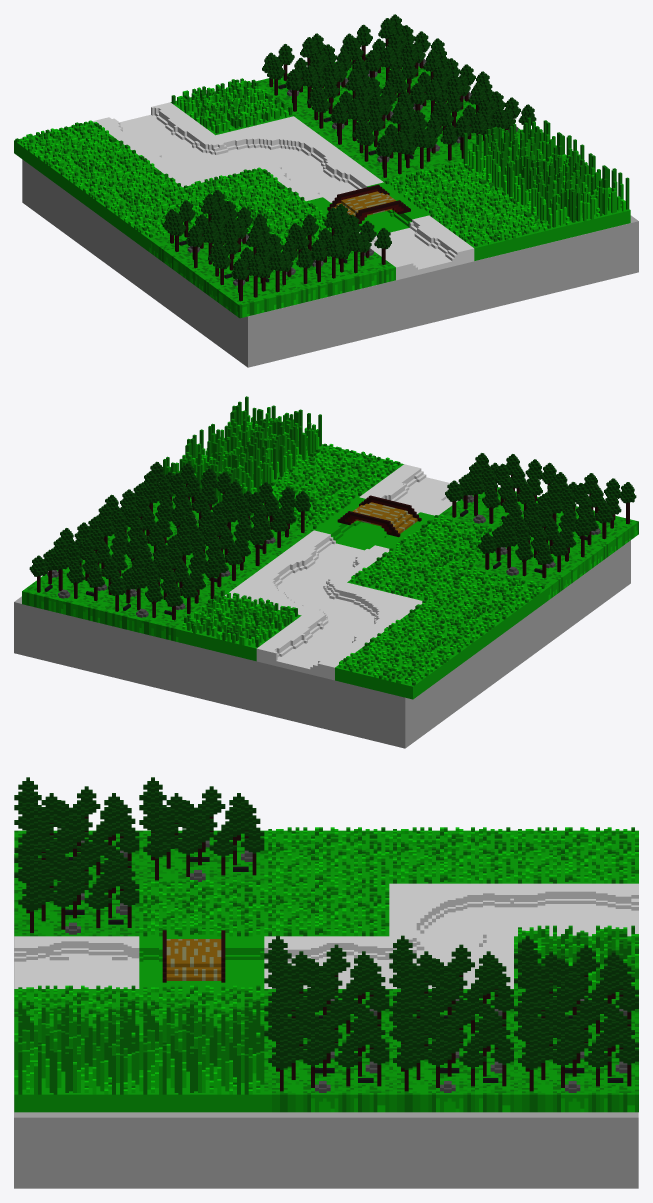
Rendered from Final Grass Map.fbx.
The picture shows the model from 3 angles, top to bottom: view 1: azimuth 30°, elevation 25°; view 2: azimuth 150°, elevation 25°; view 3: azimuth 270°, elevation 25°; orthographic projection. The views are drawn at different scales.
Visible parts, largest first — view 1: Cube, Plaines Map-48, Plaines Map-3, Plaines Map-46, Plaines Map-20, Plaines Map-47, Plaines Map-2, Plaines Map-36, Plaines Map-21, Plaines Map-18, Plaines Map-22, Plaines Map-41 (+14 smaller); view 2: Cube, Plaines Map-18, Plaines Map-47, Plaines Map-16.001, Plaines Map-48, Plaines Map-40, Plaines Map-46, Plaines Map-22, Plaines Map-20, Plaines Map-21, Plaines Map-3, Plaines Map-35 (+14 smaller); view 3: Cube, Plaines Map-19, Plaines Map-16, Plaines Map-16.001, Plaines Map-2, Plaines Map-3, Plaines Map-46, Plaines Map-47, Plaines Map-34, Plaines Map-20, Plaines Map-48, Plaines Map-39 (+14 smaller).
Boxes of the visible parts, x1,y1,x2,y2 form: Cube: (22,159,638,367); Plaines Map-48: (194,222,317,318); Plaines Map-3: (508,150,630,241); Plaines Map-46: (280,203,395,299); Plaines Map-20: (339,99,460,182); Plaines Map-47: (149,190,266,284); Plaines Map-2: (462,117,584,195); Plaines Map-36: (429,195,552,260); Plaines Map-21: (294,66,411,148); Plaines Map-18: (250,33,366,115); Plaines Map-22: (170,78,293,135); Plaines Map-41: (59,153,180,218); Cube: (14,540,630,748); Plaines Map-18: (100,547,220,641); Plaines Map-47: (471,505,593,599); Plaines Map-16.001: (22,528,140,622); Plaines Map-48: (523,472,638,566); Plaines Map-40: (335,633,458,699); Plaines Map-46: (438,453,556,529); Plaines Map-22: (178,590,301,661); Plaines Map-20: (198,481,313,563); Plaines Map-21: (153,514,268,595); Plaines Map-3: (206,396,323,477); Plaines Map-35: (256,615,377,680); Cube: (14,854,638,1188); Plaines Map-19: (264,988,389,1112); Plaines Map-16: (389,988,513,1112); Plaines Map-16.001: (514,988,638,1112); Plaines Map-2: (139,999,264,1112); Plaines Map-3: (14,999,139,1112); Plaines Map-46: (14,830,139,936); Plaines Map-47: (139,777,264,883); Plaines Map-34: (389,883,513,946); Plaines Map-20: (264,935,389,1041); Plaines Map-48: (14,777,139,883); Plaines Map-39: (264,880,389,936).
Bounding box in the file's own units: 1633 × 410 × 1601.
